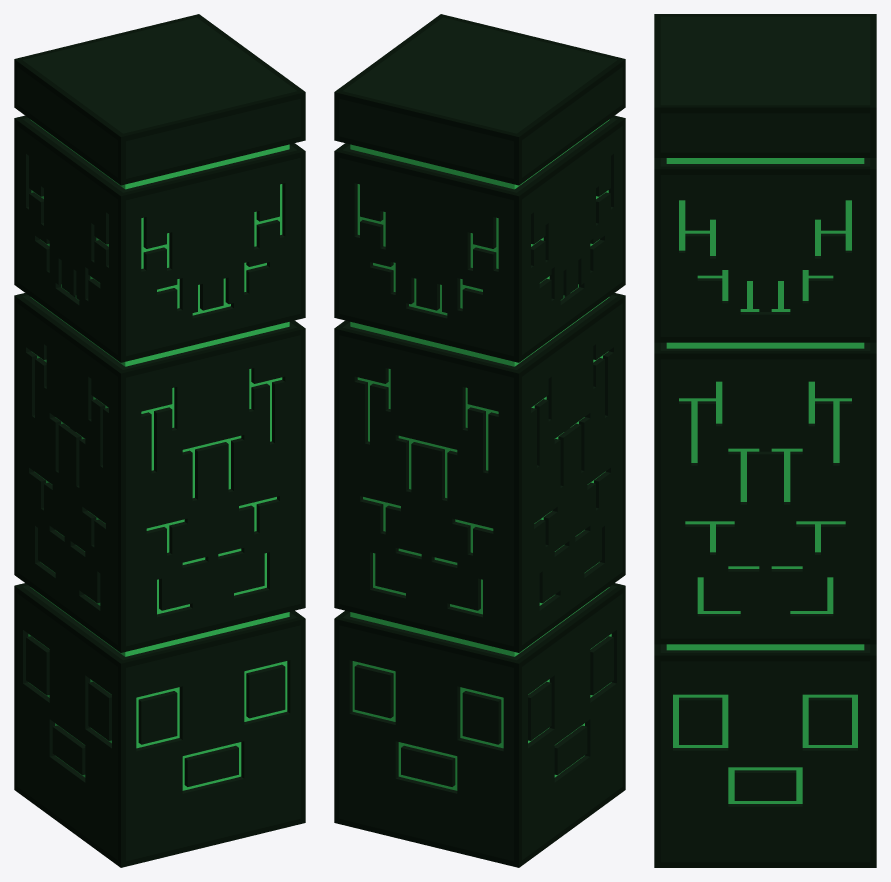
Rendered from Green Trial Altar.fbx.
3 views of the same model, side by side, from view 1: azimuth 30°, elevation 25°; view 2: azimuth 150°, elevation 25°; view 3: azimuth 270°, elevation 25° (orthographic). The views are drawn at different scales.
Parts seen in each view (by area): view 1: Green Trial Altar; view 2: Green Trial Altar; view 3: Green Trial Altar.
Part boxes in pixels (x1=…): Green Trial Altar: x1=14, y1=14, x2=305, y2=867; Green Trial Altar: x1=334, y1=14, x2=625, y2=867; Green Trial Altar: x1=654, y1=14, x2=876, y2=867.
Bounding box in the file's own units: 0.72 × 0.72 × 2.72.
Materials: 1 (1 with a texture image).
